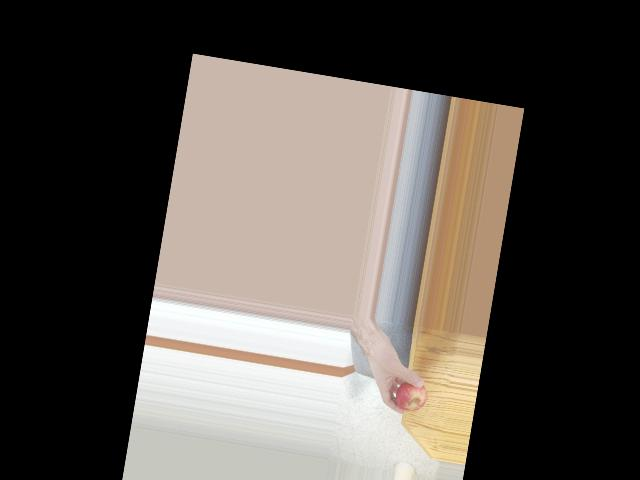apple: (393, 375, 430, 414)
